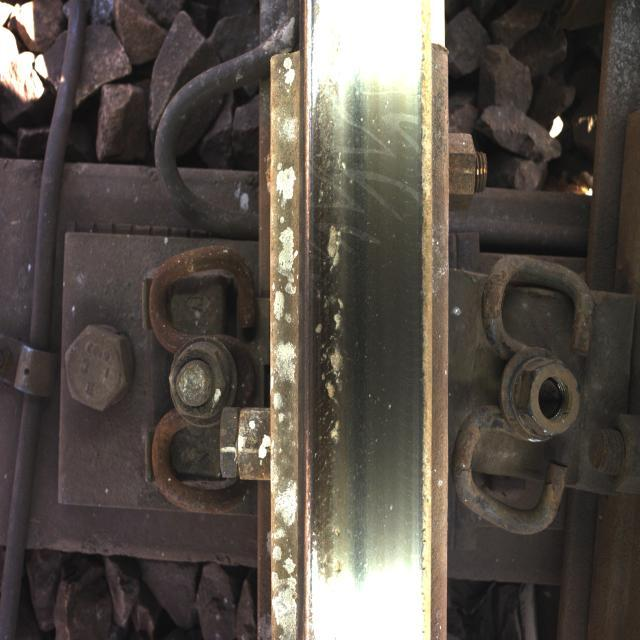crack: (298, 31, 364, 604)
